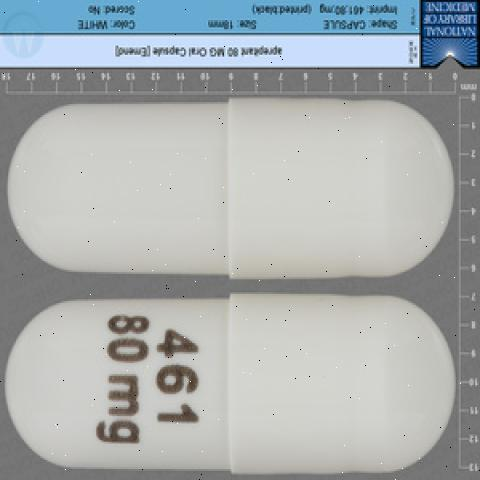Pill: (0, 79, 454, 294), (3, 284, 459, 474)
